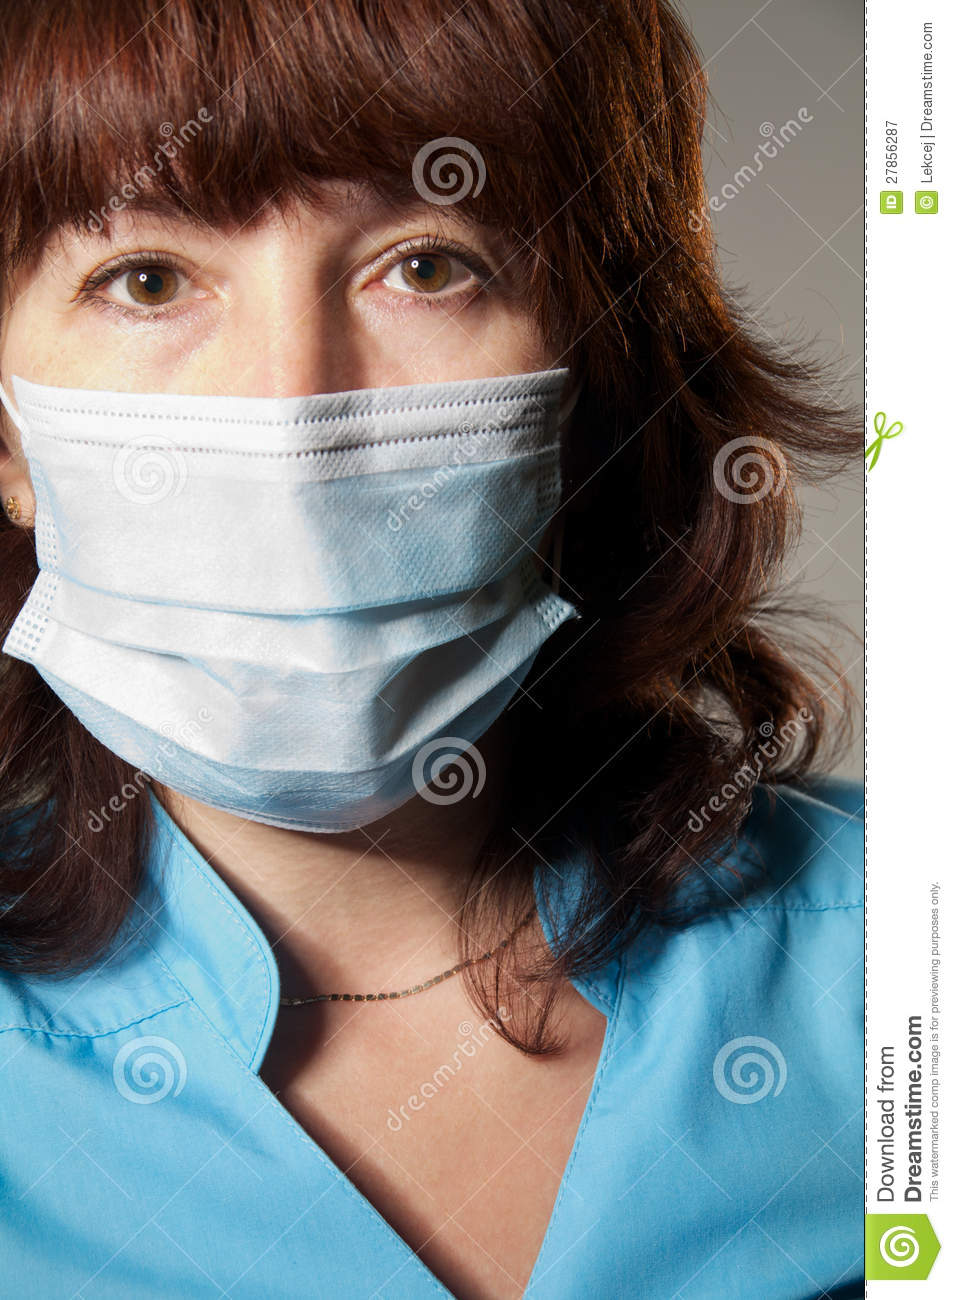mask: (4, 384, 571, 843)
